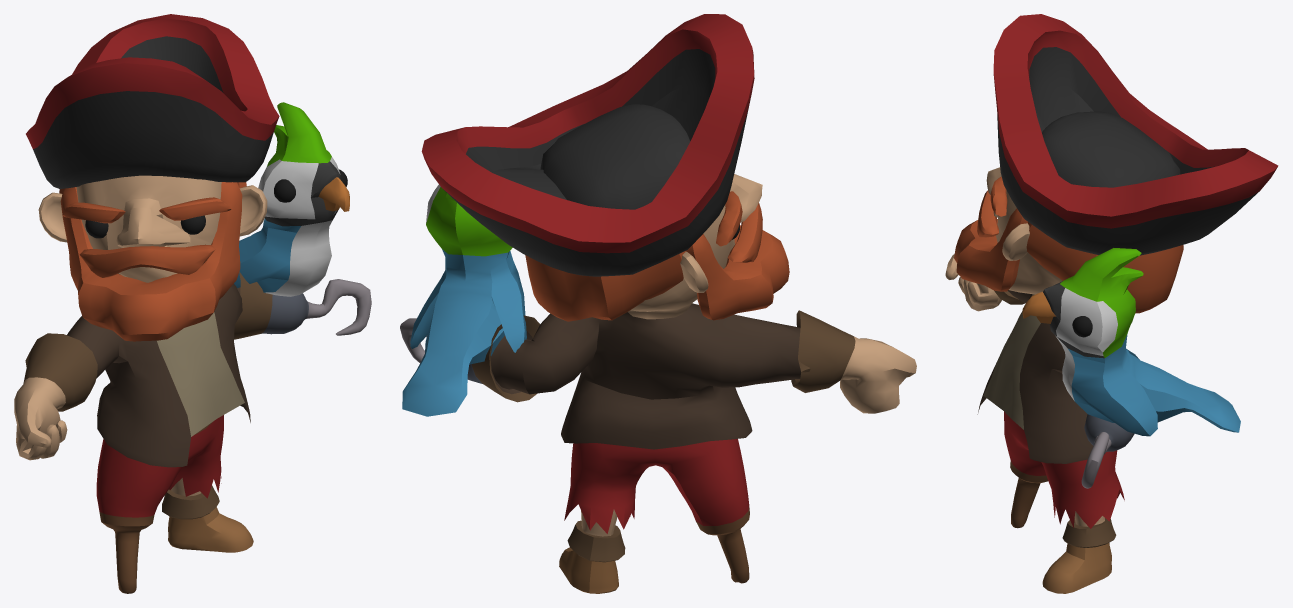
The model's file is PirateKit_Sketchfab.fbx.
3 renders of one model, left to right at view 1: azimuth 30°, elevation 25°; view 2: azimuth 150°, elevation 25°; view 3: azimuth 270°, elevation 25°, orthographic. The views are drawn at different scales.
Visible parts, largest first — view 1: Captain_Barbarossa, Ernest; view 2: Captain_Barbarossa, Ernest; view 3: Captain_Barbarossa, Ernest.
Boxes of the visible parts, x1,y1,x2,y2 form: Captain_Barbarossa: (14,14,371,593); Ernest: (234,102,349,296); Captain_Barbarossa: (400,14,916,593); Ernest: (402,184,526,416); Captain_Barbarossa: (945,14,1278,593); Ernest: (1022,248,1240,436).
Bounding box in the file's own units: 151 × 185 × 109.
